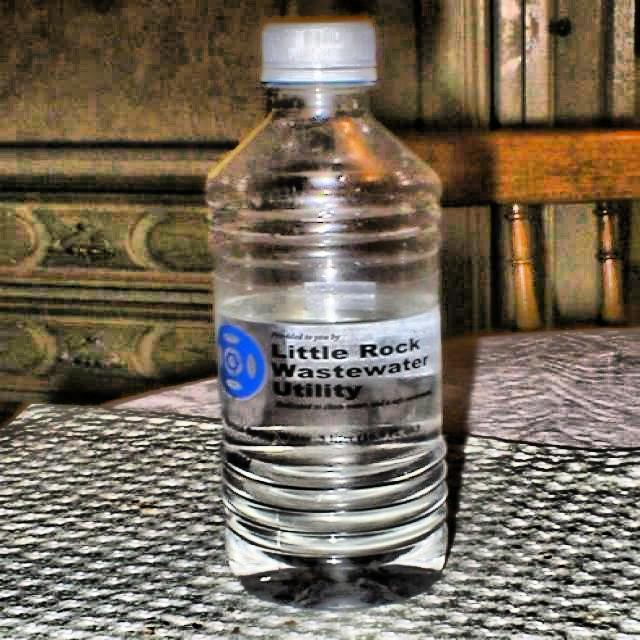plastic bottle: (207, 21, 449, 609)
